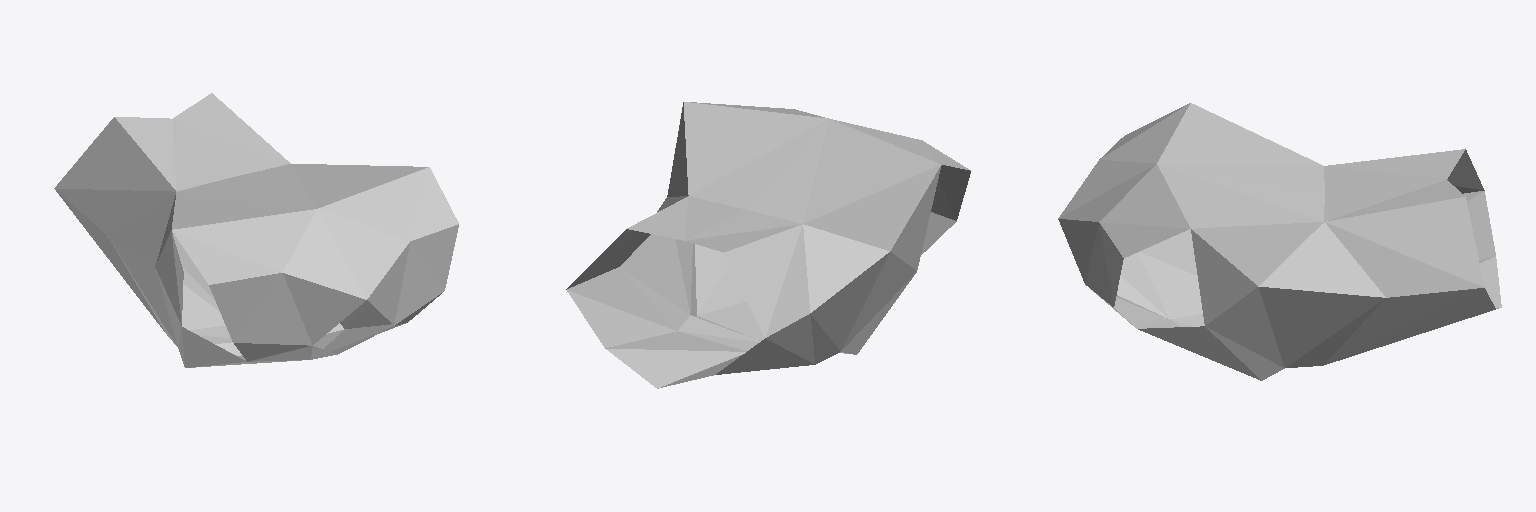
File: 02-torso3.obj
3 views of the same model, side by side, from view 1: azimuth 30°, elevation 25°; view 2: azimuth 150°, elevation 25°; view 3: azimuth 270°, elevation 25° (orthographic).
Visible parts, largest first — view 1: Man_Body; view 2: Man_Body; view 3: Man_Body.
Part boxes in pixels (x1,y1,x2,y2): Man_Body: (54,93,458,367); Man_Body: (566,102,970,388); Man_Body: (1058,103,1501,380).
Bounding box in the file's own units: 1.32 × 0.9014 × 1.97.